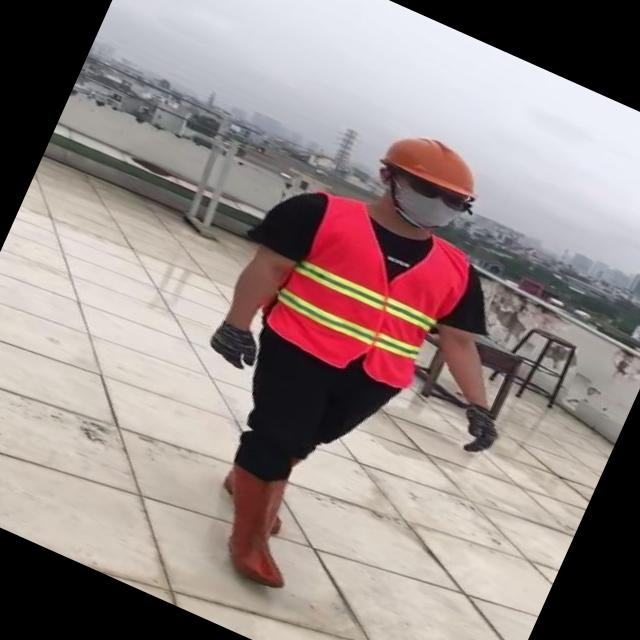hard_hat: (370, 116, 493, 207)
safety_vest: (258, 186, 480, 402)
vehicle: (108, 77, 614, 640)
work_boots: (191, 459, 322, 596), (279, 452, 303, 480)
